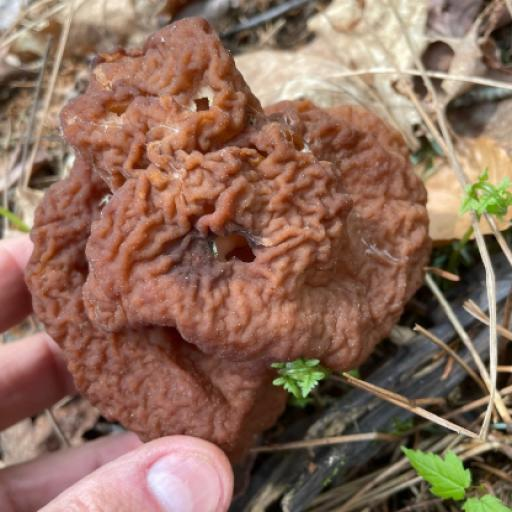mushroom: (30, 17, 437, 454)
